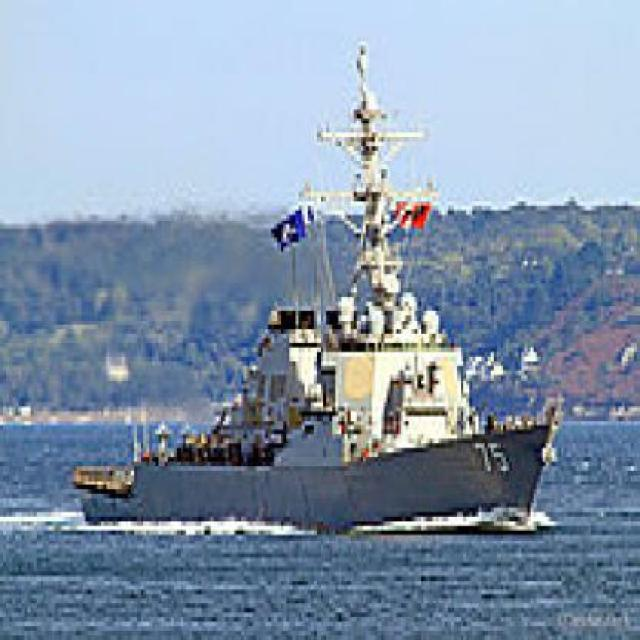warship2: (80, 15, 565, 546)
